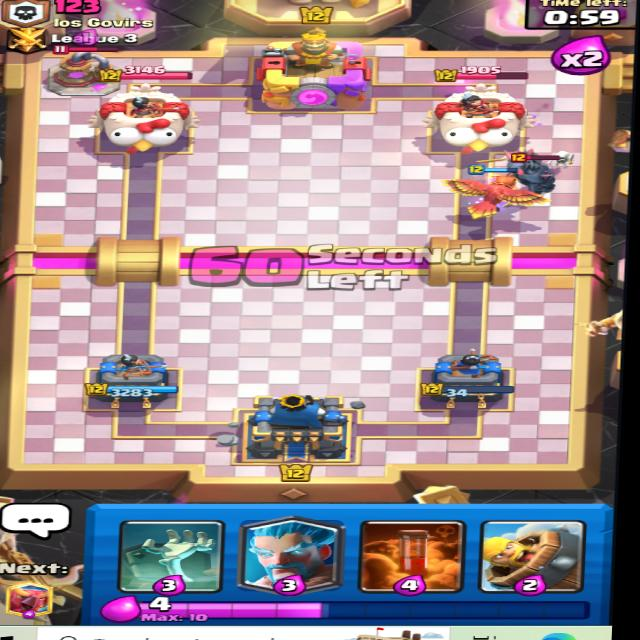elixir-collector: (41, 43, 128, 97)
pekka: (472, 152, 562, 196)
